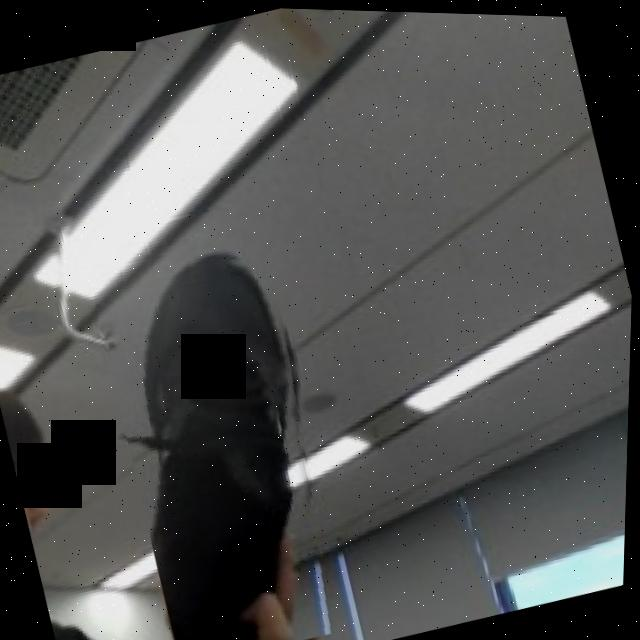shoe: (80, 223, 375, 640)
